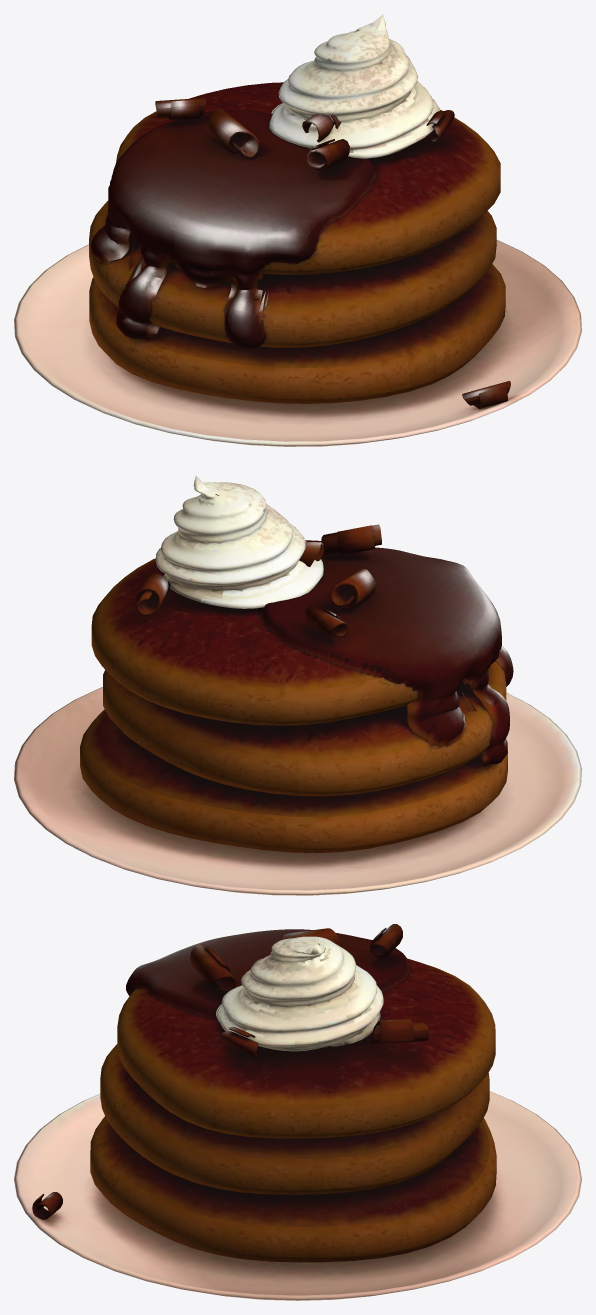
The model's file is pancake--choco-cocoa.glb.
The picture shows the model from 3 angles, top to bottom: view 1: azimuth 30°, elevation 25°; view 2: azimuth 150°, elevation 25°; view 3: azimuth 270°, elevation 25°; orthographic projection.
Visible parts, largest first — view 1: pancake_choco-cocoa; view 2: pancake_choco-cocoa; view 3: pancake_choco-cocoa.
Boxes of the visible parts, x1,y1,x2,y2 form: pancake_choco-cocoa: [14, 14, 581, 446]; pancake_choco-cocoa: [14, 476, 581, 895]; pancake_choco-cocoa: [14, 924, 581, 1300].
Bounding box in the file's own units: 1.22 × 0.7264 × 1.22.
Materials: 1 (1 with a texture image).
